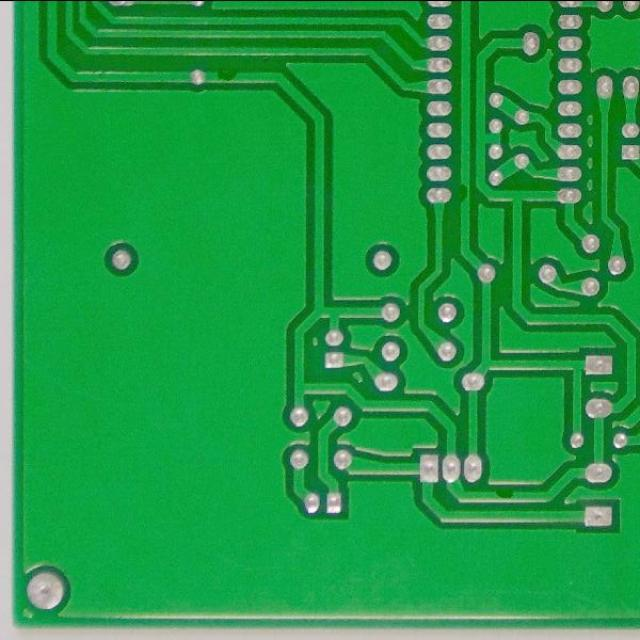mouse_bite: (453, 179, 475, 207), (212, 64, 240, 85), (490, 486, 520, 504)
